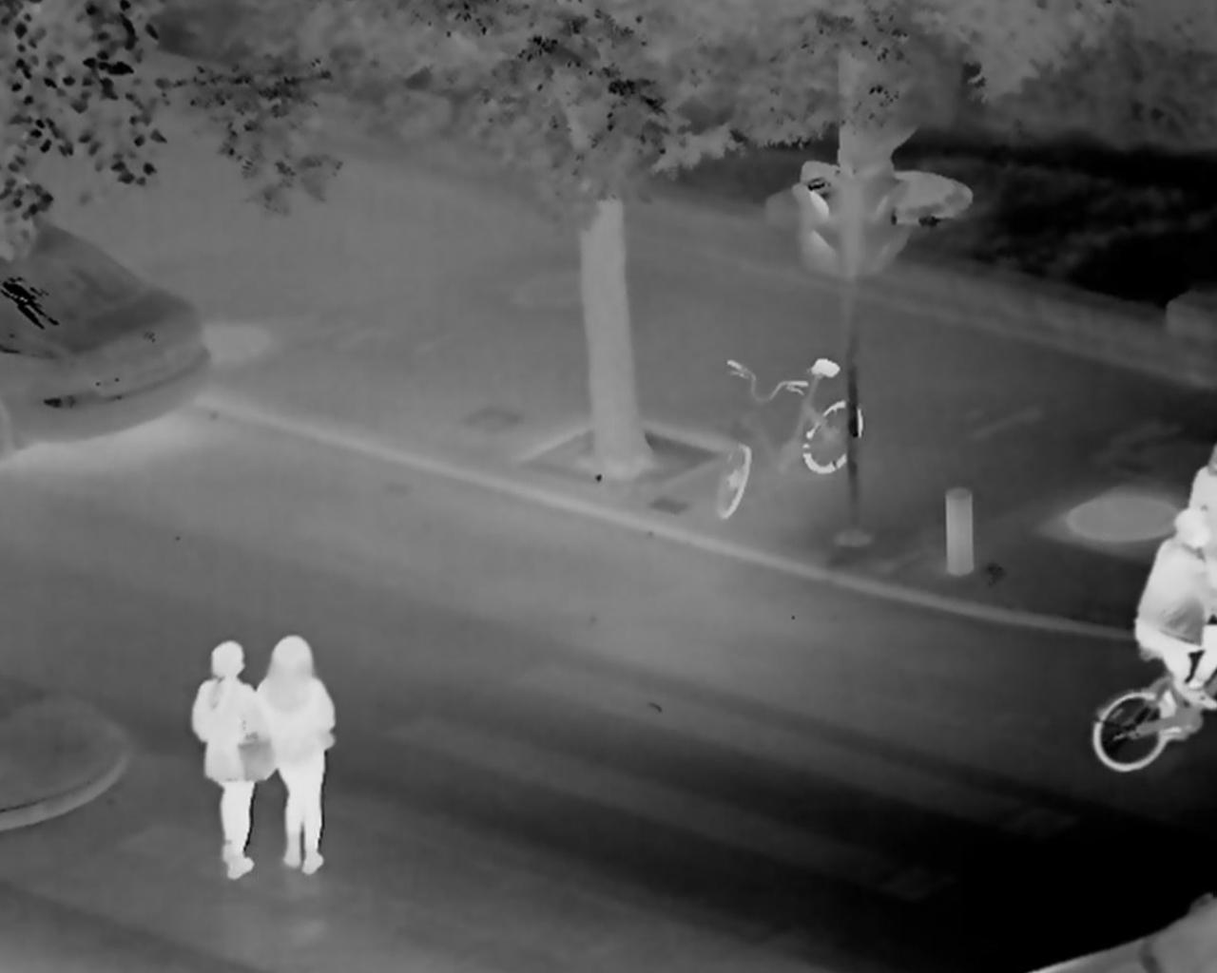person: (255, 637, 338, 873), (1130, 512, 1217, 725), (190, 640, 264, 880)
